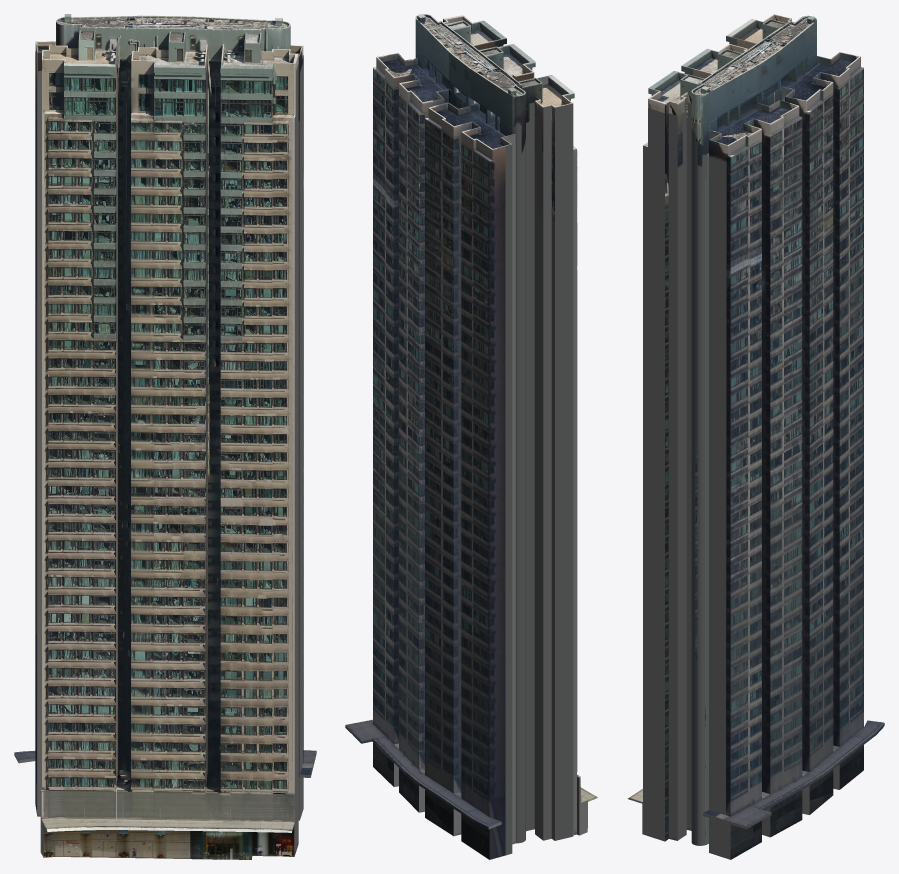
The picture shows the model from 3 angles, left to right: view 1: azimuth 30°, elevation 25°; view 2: azimuth 150°, elevation 25°; view 3: azimuth 270°, elevation 25°; orthographic projection. The views are drawn at different scales.
Parts seen in each view (by area): view 1: B370921843501063A0; view 2: B370921843501063A0; view 3: B370921843501063A0.
Boxes of the visible parts, <box> form: B370921843501063A0: <box>14,14,316,859</box>; B370921843501063A0: <box>345,14,598,859</box>; B370921843501063A0: <box>627,14,884,859</box>.
Size of the model in its own units: 48.22 by 137 by 42.49.
